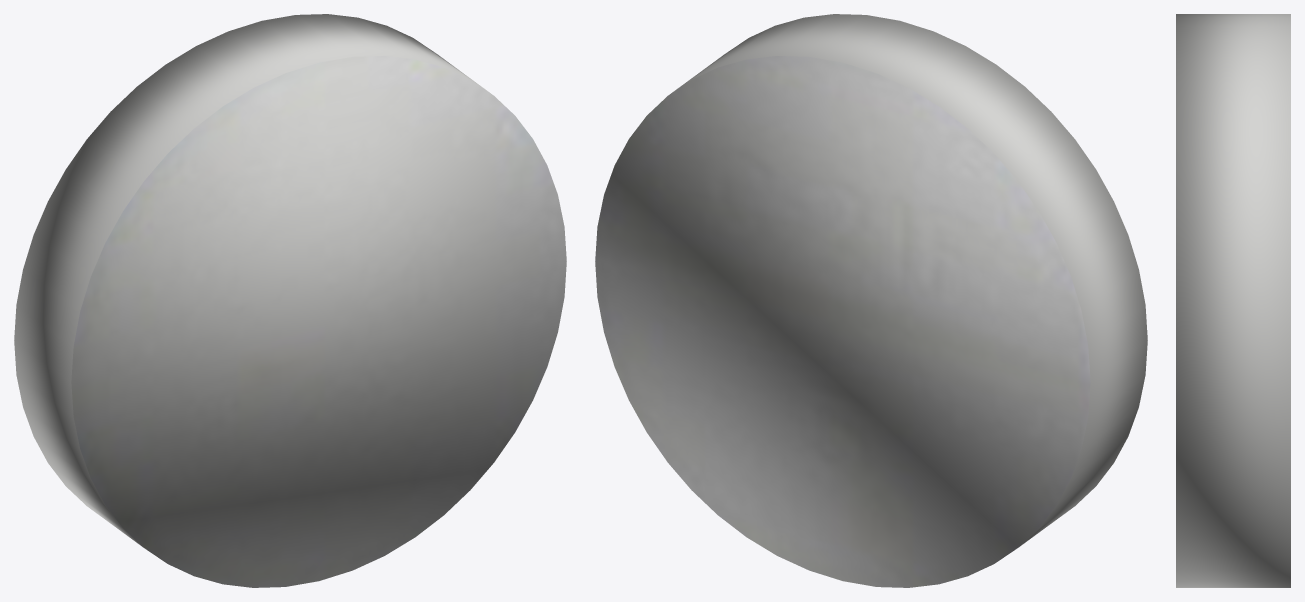
The model's file is 20140311GOPHDRGPT01927.fbx.
3 renders of one model, left to right at view 1: azimuth 30°, elevation 25°; view 2: azimuth 150°, elevation 25°; view 3: azimuth 270°, elevation 25°, orthographic.
Parts seen in each view (by area): view 1: 貝茲圓; view 2: 貝茲圓; view 3: 貝茲圓.
Part boxes in pixels (x1=…): 貝茲圓: x1=14, y1=14, x2=566, y2=587; 貝茲圓: x1=595, y1=14, x2=1147, y2=587; 貝茲圓: x1=1176, y1=14, x2=1290, y2=587.
Bounding box in the file's own units: 0.4965 × 0.4965 × 0.0993.
